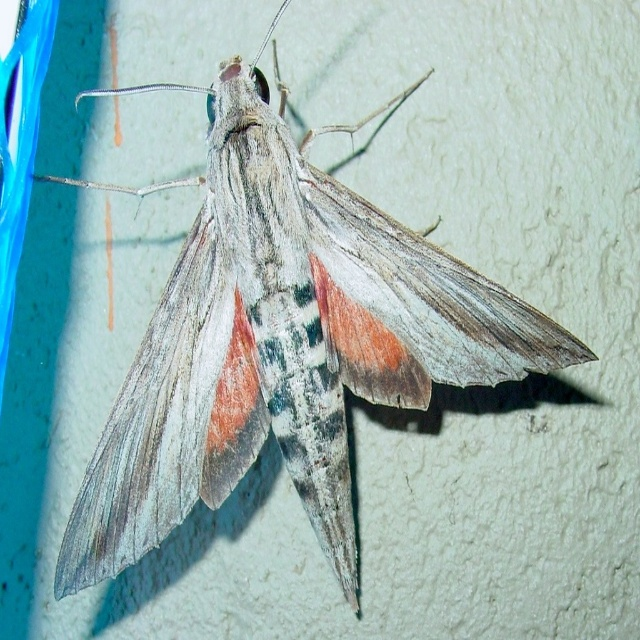Moths and butterflies: (31, 0, 601, 614)
